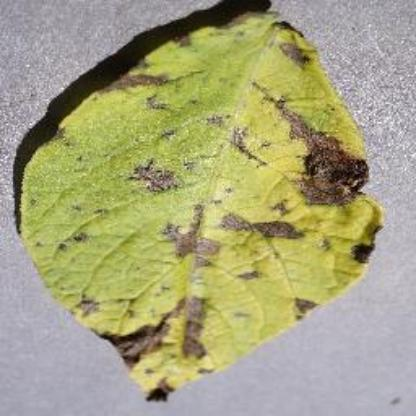Early-Blight: (8, 2, 400, 404)
